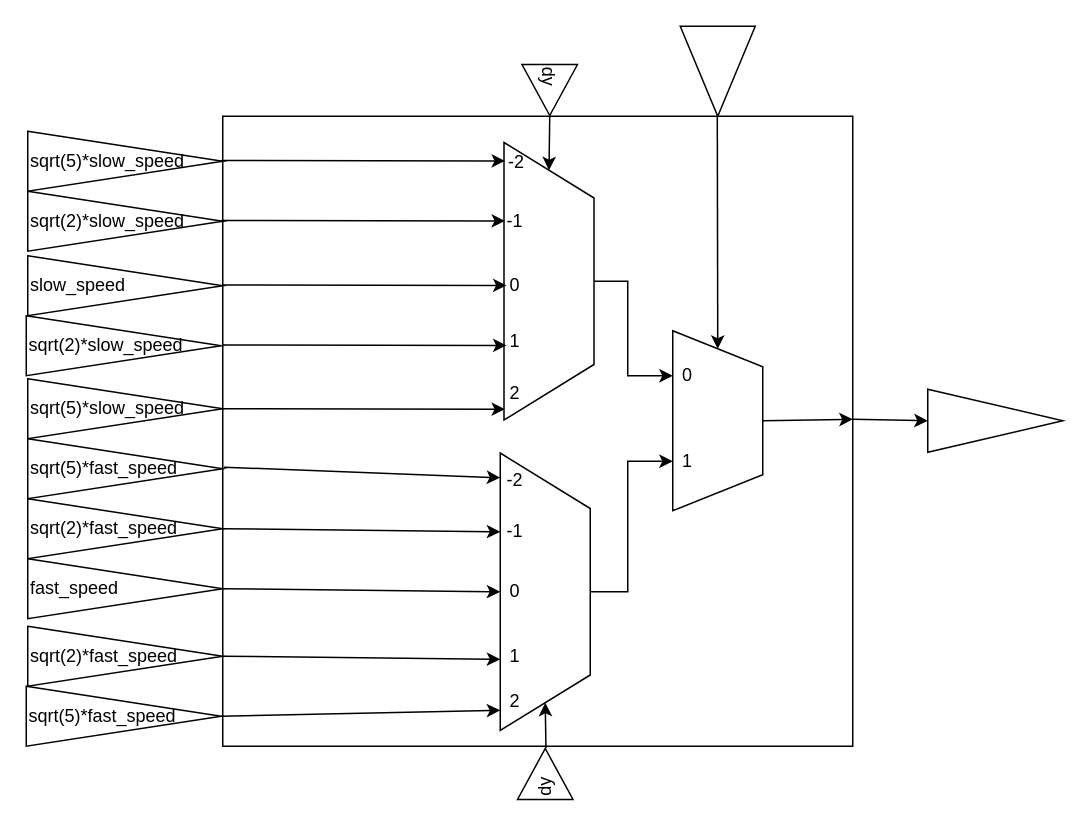
This 1089x827 diagram has some shape labels left out. Each missing label, with the centre of its shape:
"Max_Count" goes at (994,420).
"Speed" goes at (717,70).
